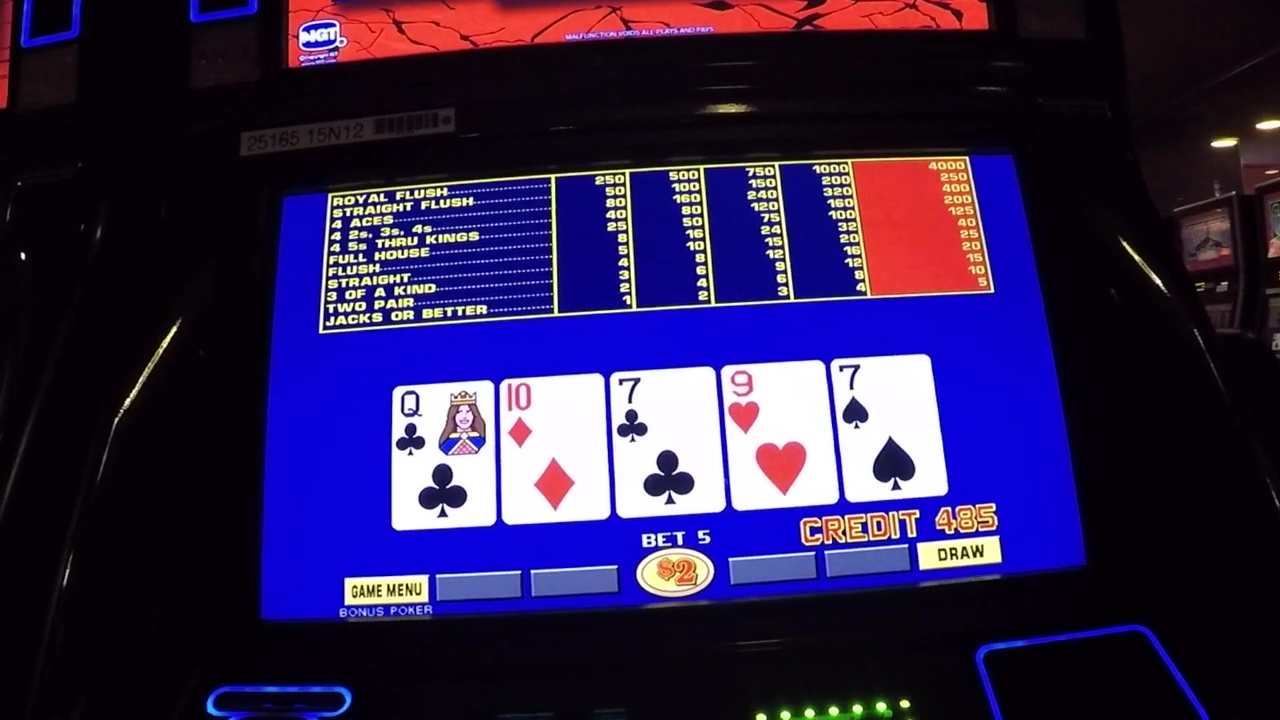C7: (616, 373, 713, 447)
CQ: (394, 386, 494, 457)
DT: (503, 377, 603, 452)
H9: (729, 366, 825, 437)
S7: (841, 360, 929, 432)
